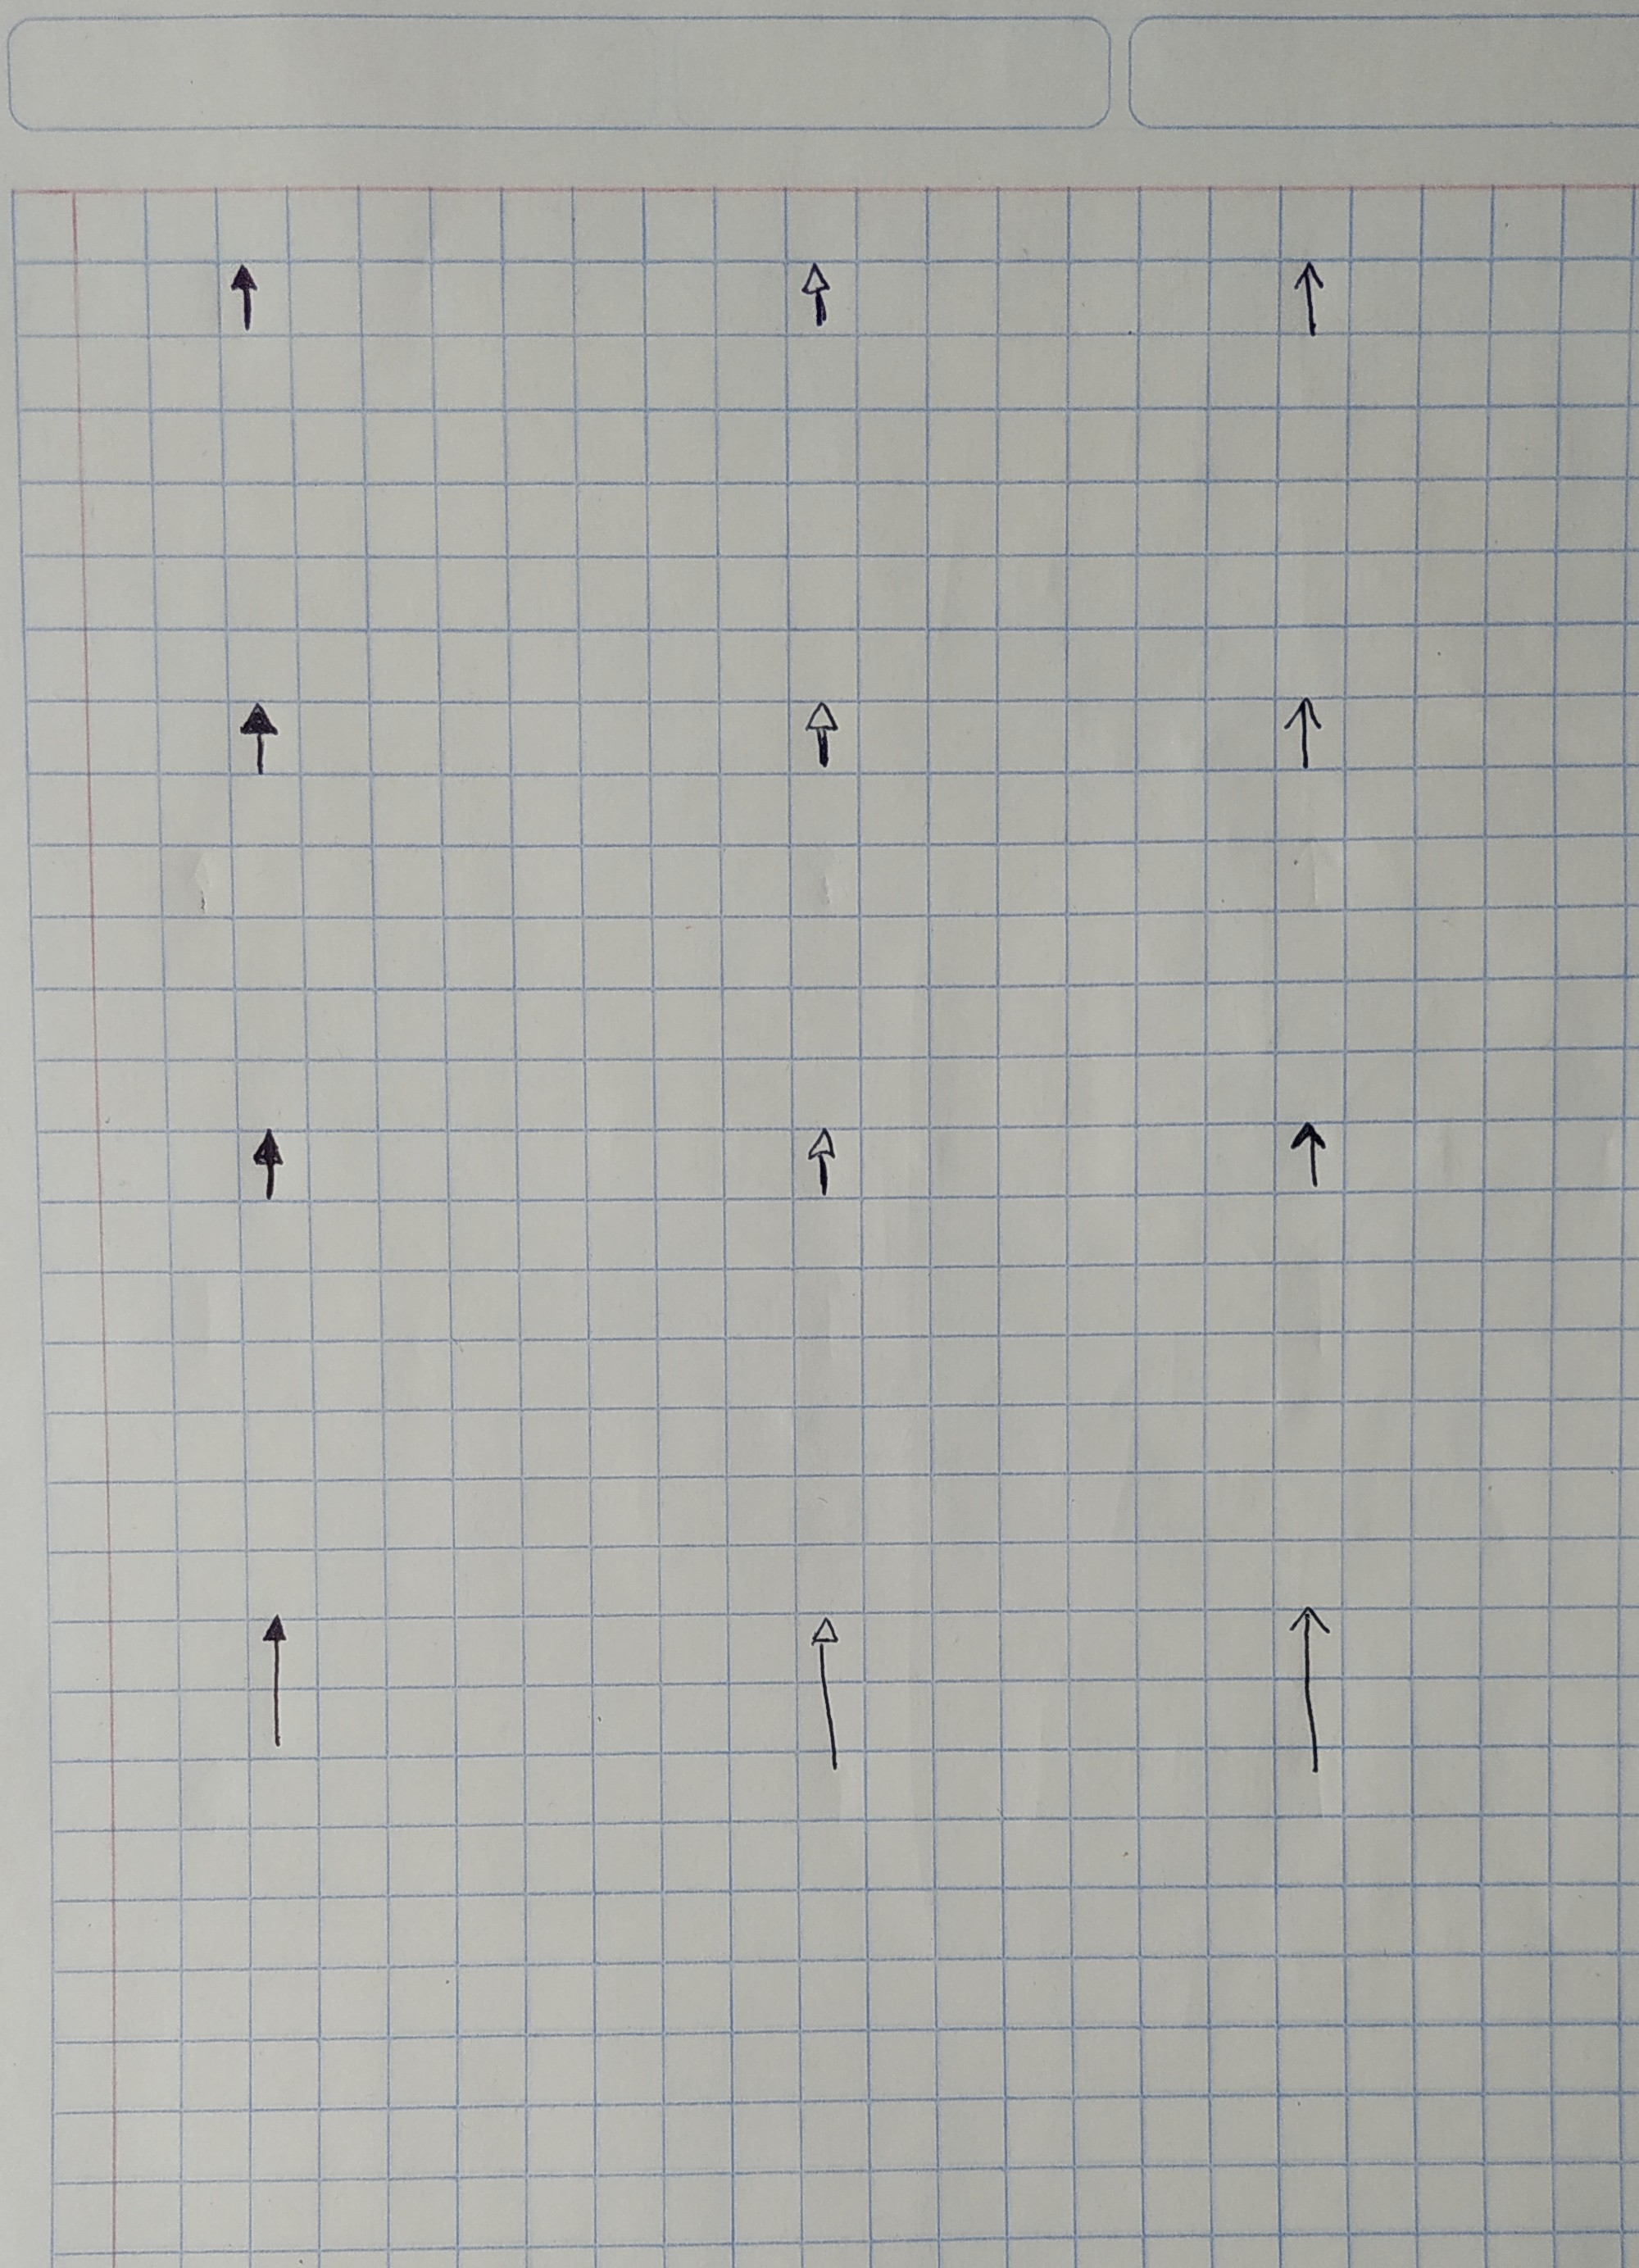arrow_line_up: (805, 1613, 854, 1778), (1287, 1606, 1333, 1777), (255, 1613, 292, 1754), (1280, 690, 1331, 777), (238, 701, 285, 784), (794, 259, 840, 340), (246, 1125, 287, 1210), (1289, 1118, 1331, 1197), (799, 696, 843, 771), (225, 261, 266, 342), (1289, 257, 1327, 340), (801, 1123, 843, 1199)
